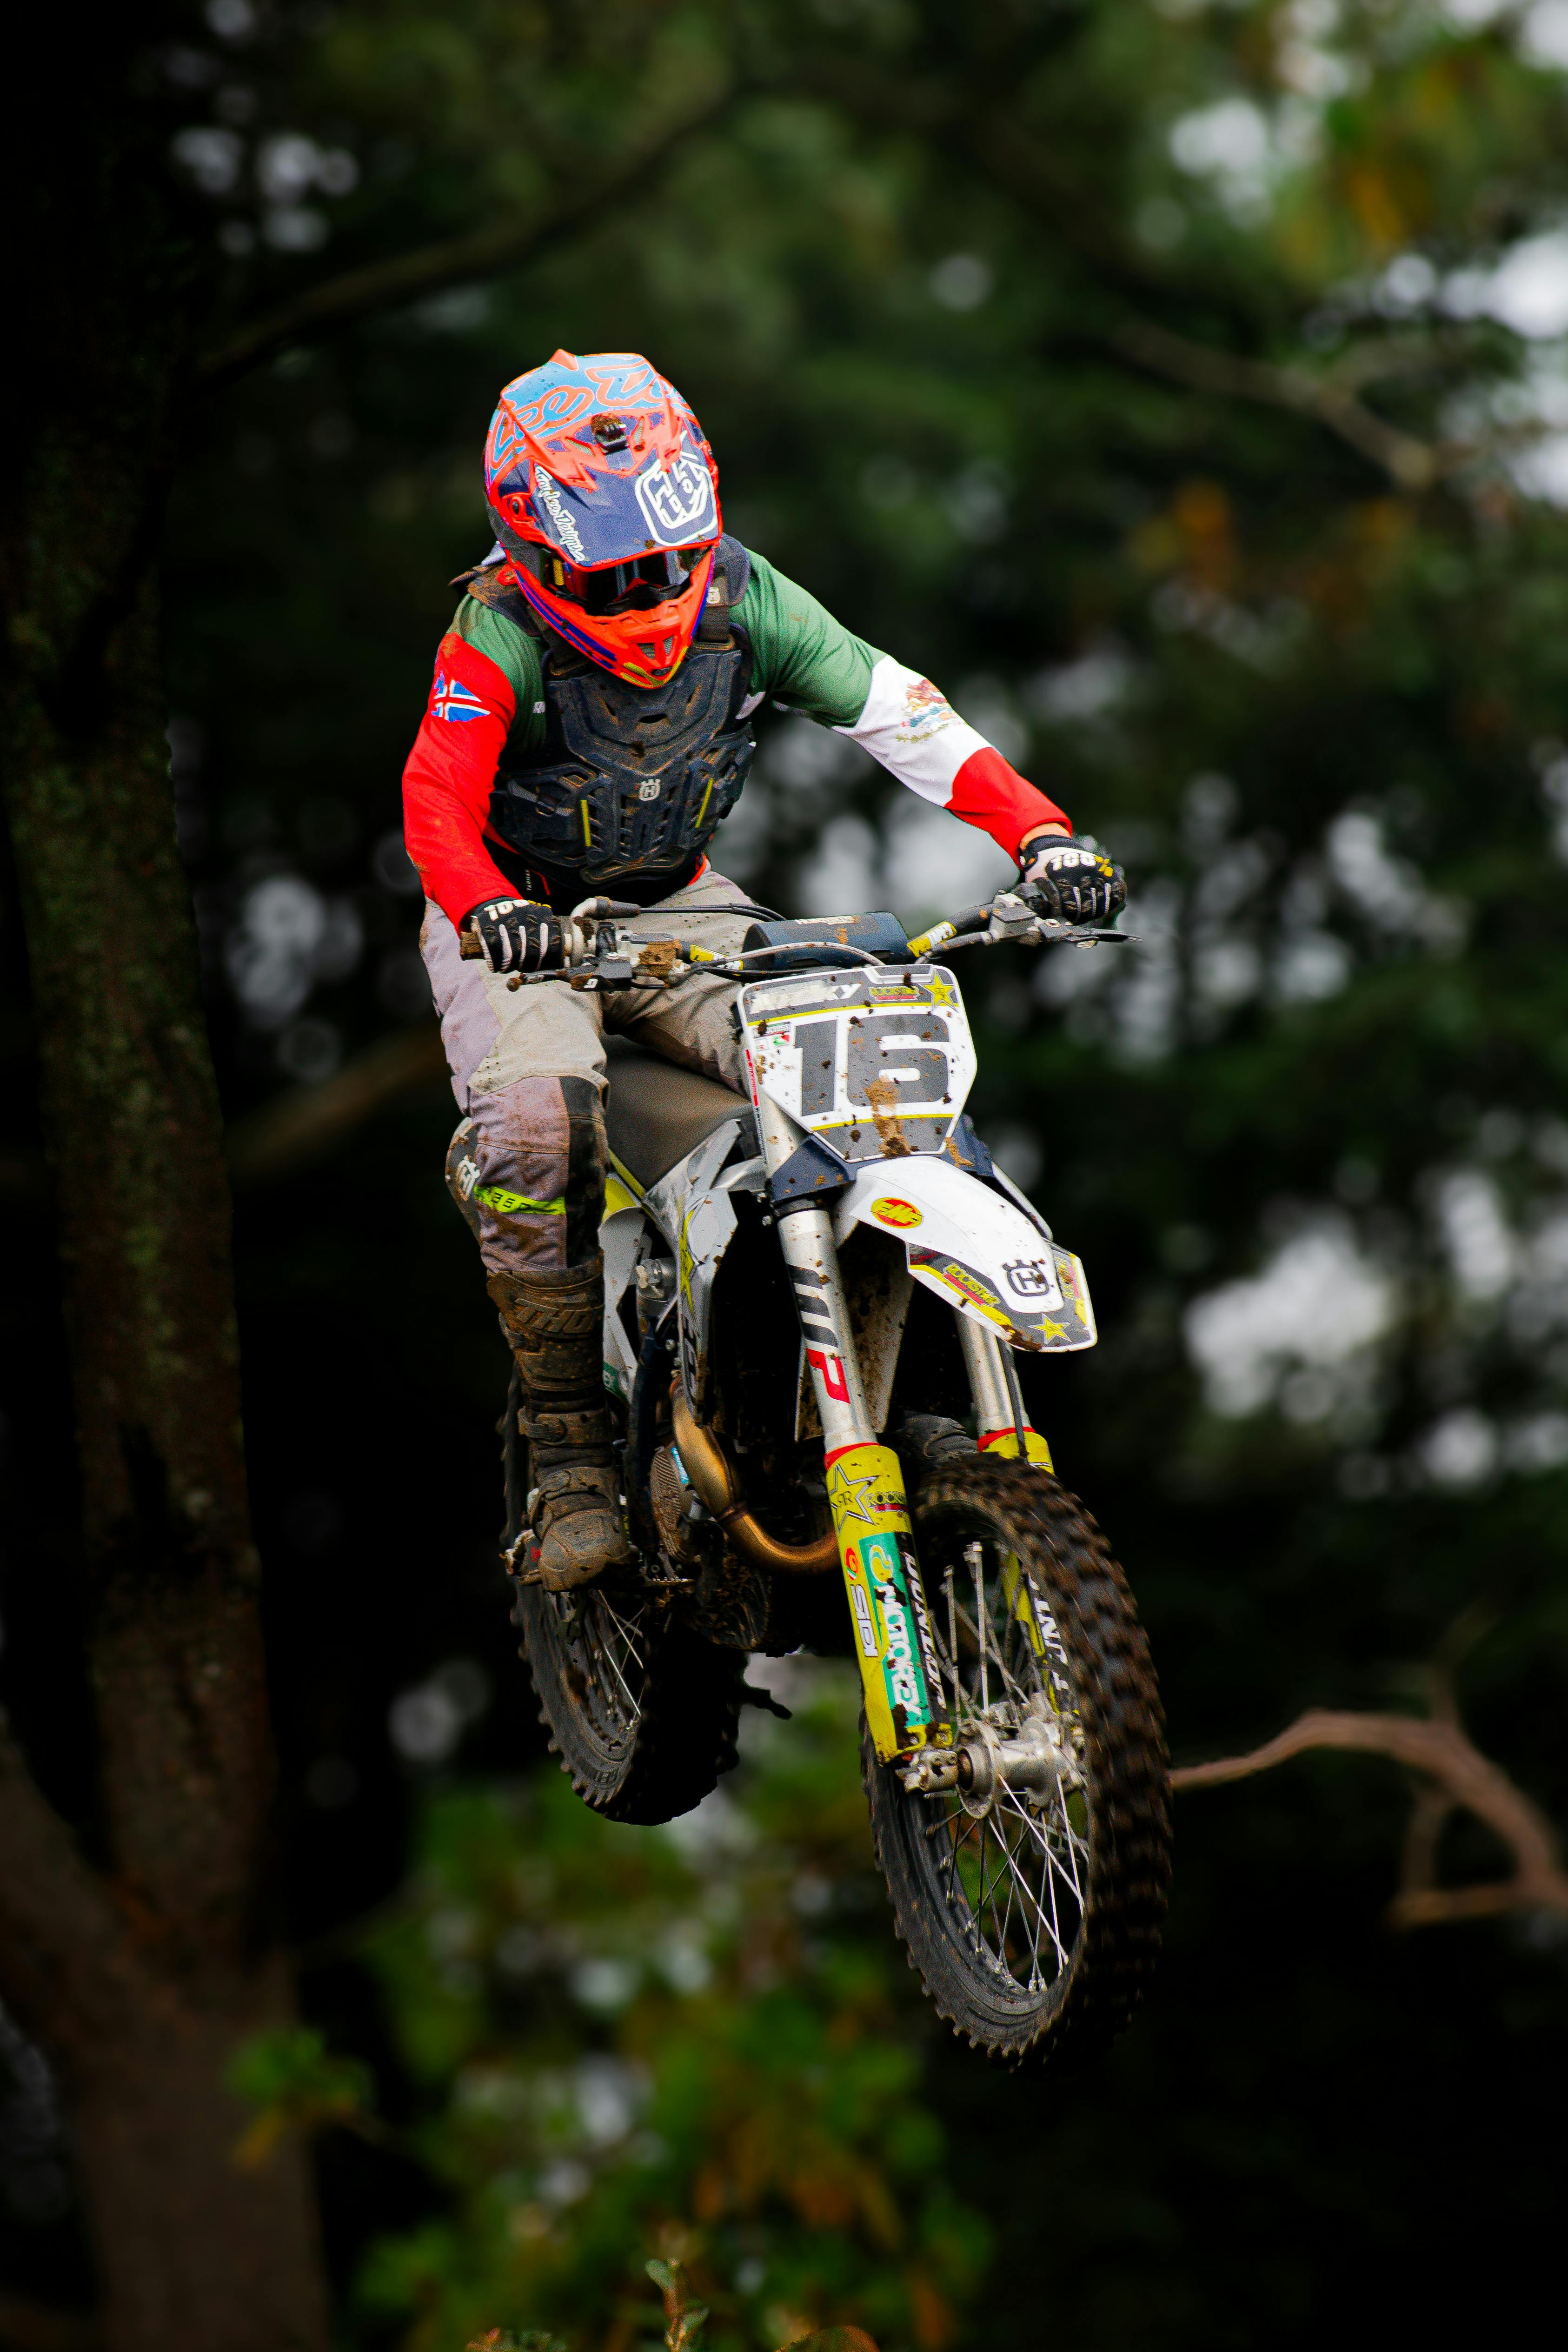capacete: (472, 338, 728, 698)
